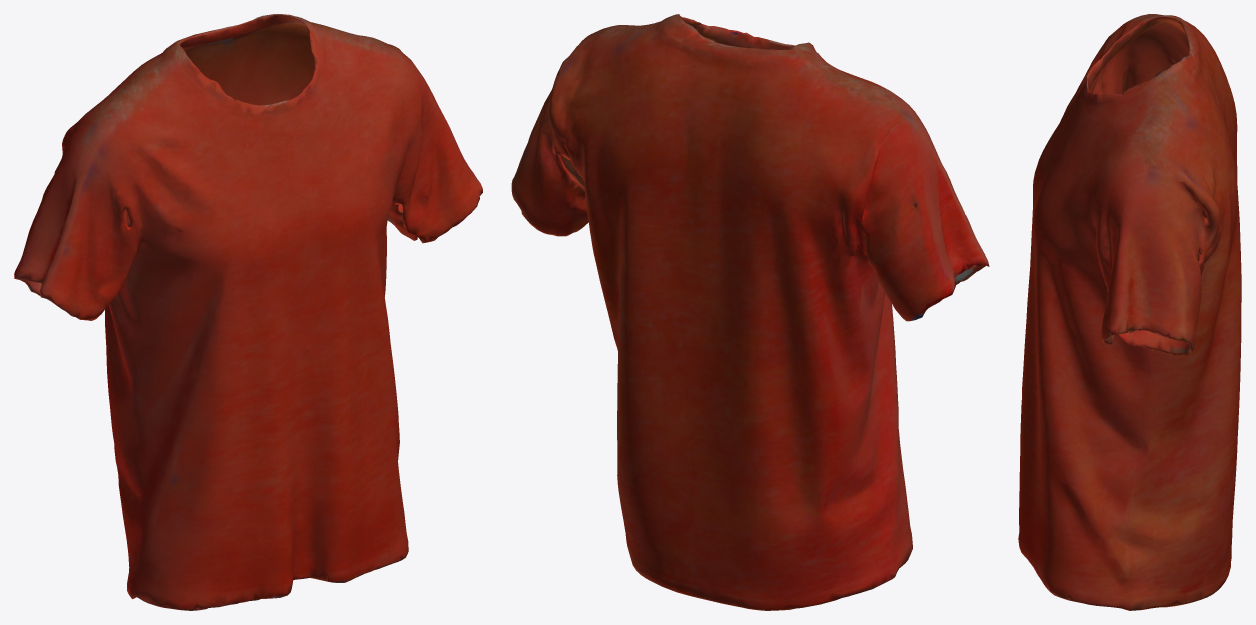
The picture shows the model from 3 angles, left to right: view 1: azimuth 30°, elevation 25°; view 2: azimuth 150°, elevation 25°; view 3: azimuth 270°, elevation 25°; orthographic projection. The views are drawn at different scales.
Visible parts, largest first — view 1: file1; view 2: file1; view 3: file1.
Boxes of the visible parts, x1,y1,x2,y2 form: file1: (14,14,482,610); file1: (511,14,989,610); file1: (1018,14,1241,610).
Bounding box in the file's own units: 1.73 × 2 × 0.7742.
Materials: 1 (1 with a texture image).
